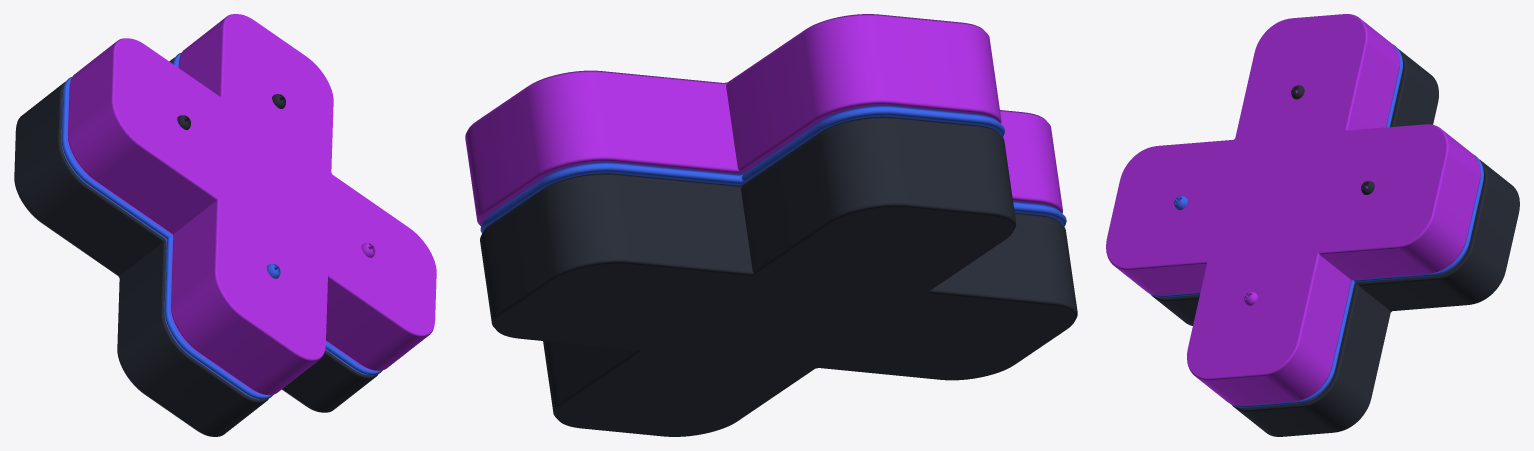
File: cross.gltf
The picture shows the model from 3 angles, left to right: view 1: azimuth 30°, elevation 25°; view 2: azimuth 150°, elevation 25°; view 3: azimuth 270°, elevation 25°; orthographic projection. The views are drawn at different scales.
Parts seen in each view (by area): view 1: Shape (×3); view 2: Shape (×3); view 3: Shape (×3).
Part boxes in pixels (x1,y1,x2,y2): Shape (×3): (14, 14, 436, 436); Shape (×3): (465, 14, 1077, 436); Shape (×3): (1106, 14, 1519, 436).
Size of the model in its own units: 2.25 by 2.14 by 2.34.
